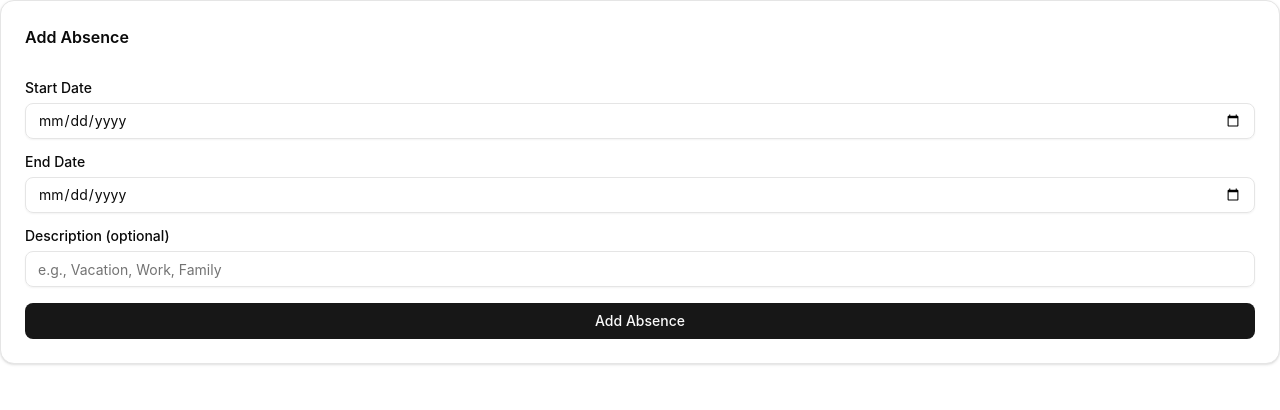
Scenario: AbsenceForm › shows validation error when start date is empty
Type "2024-06-15" into the date field labelled "End Date".
click(640, 195); type("2024-06-15")  # box [25,177,1255,213]
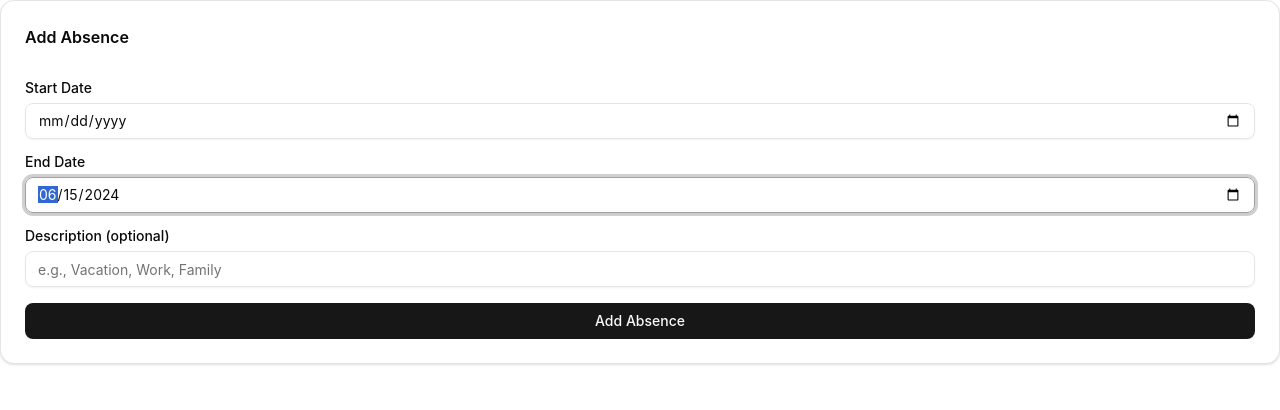
Click the button "Add Absence".
click(640, 321)  # box [25,303,1255,339]
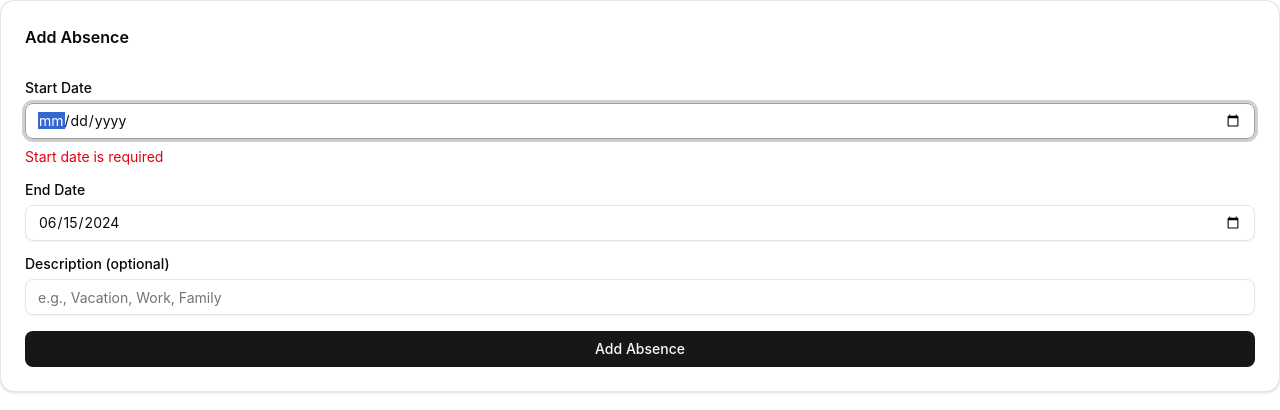
expect the text "Start date is required" is shown: met, box [25,148,163,165]
